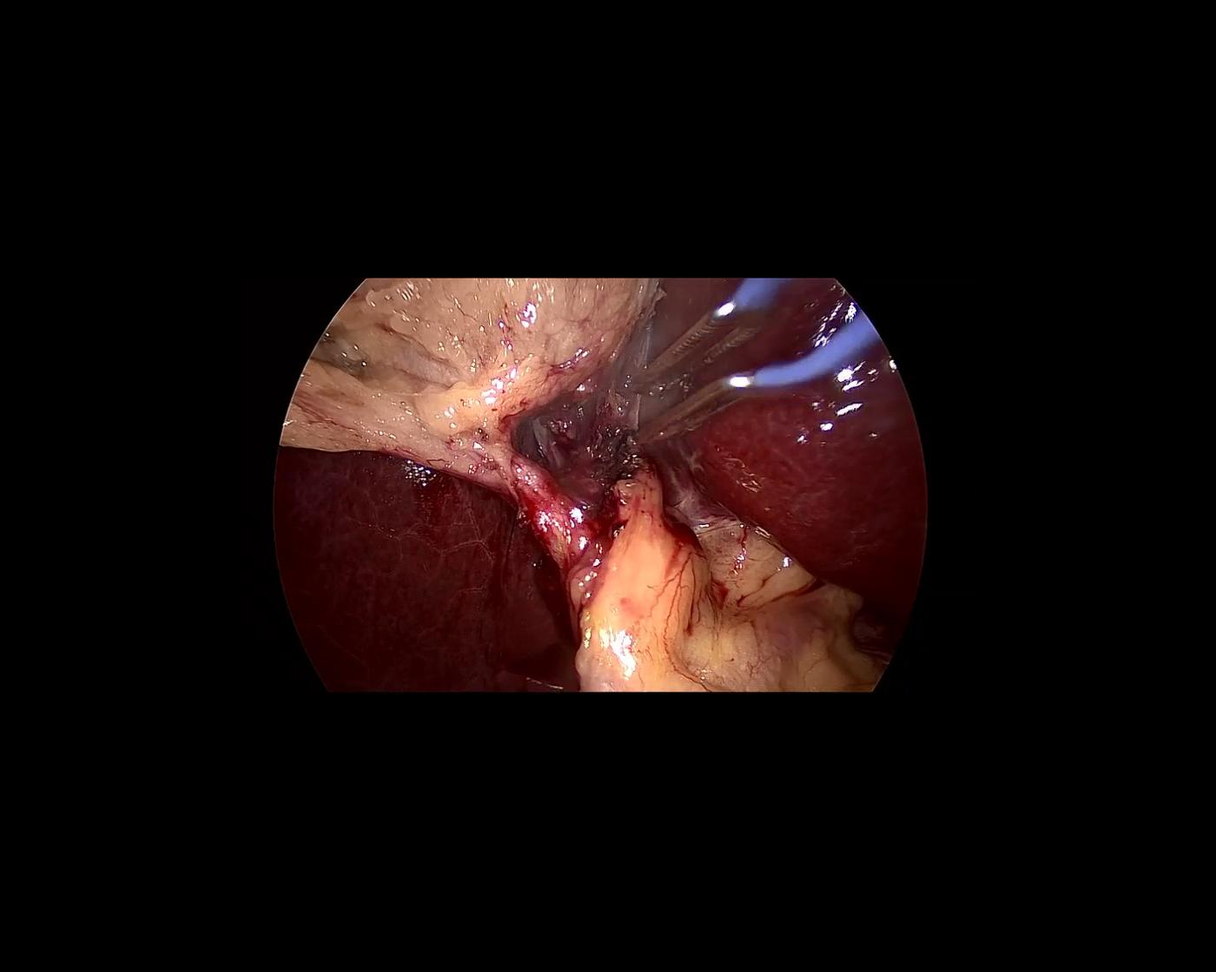Allis: (626, 303, 887, 471), (612, 256, 808, 412)
Gallbladder: (283, 280, 653, 470)
Liver: (645, 278, 927, 606), (276, 451, 572, 691)
